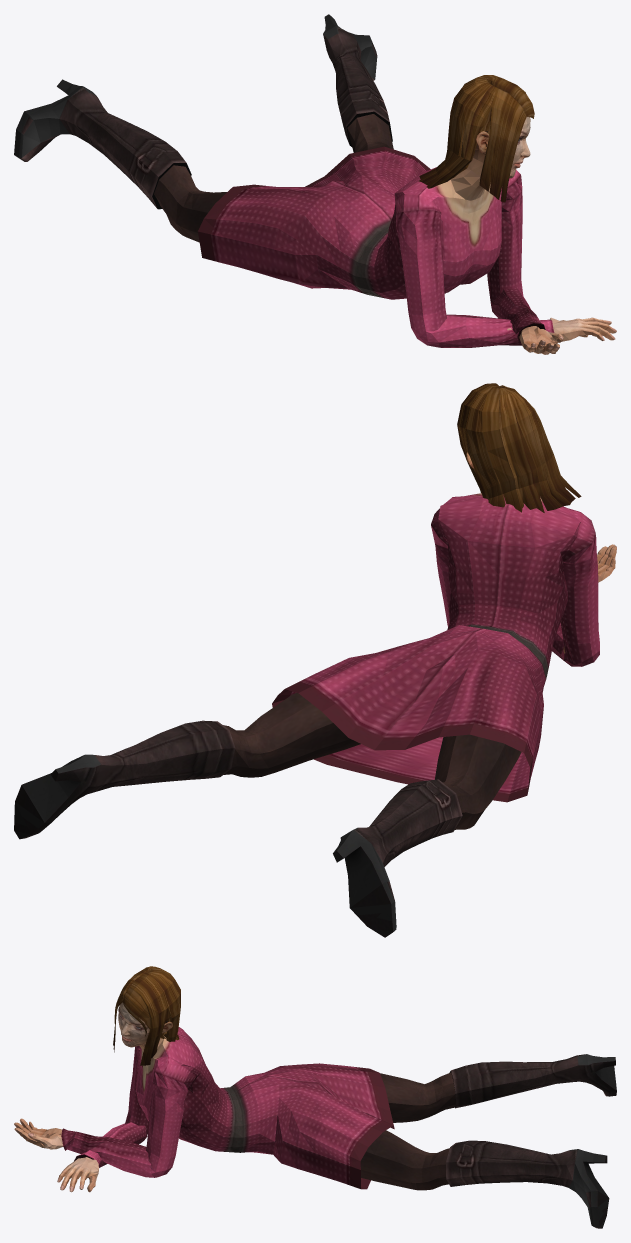
The model's file is sweethome3d-reallusion-lying-down-female.glb.
3 renders of one model, top to bottom at view 1: azimuth 30°, elevation 25°; view 2: azimuth 150°, elevation 25°; view 3: azimuth 270°, elevation 25°, orthographic. The views are drawn at different scales.
Parts seen in each view (by area): view 1: objpolySurface1023; view 2: objpolySurface1023; view 3: objpolySurface1023.
Part boxes in pixels (<box>): objpolySurface1023: <box>14,14,616,354</box>; objpolySurface1023: <box>14,383,616,937</box>; objpolySurface1023: <box>14,966,616,1228</box>.
Bounding box in the file's own units: 89.44 × 59.86 × 164.
Materials: 3 (3 with a texture image).
